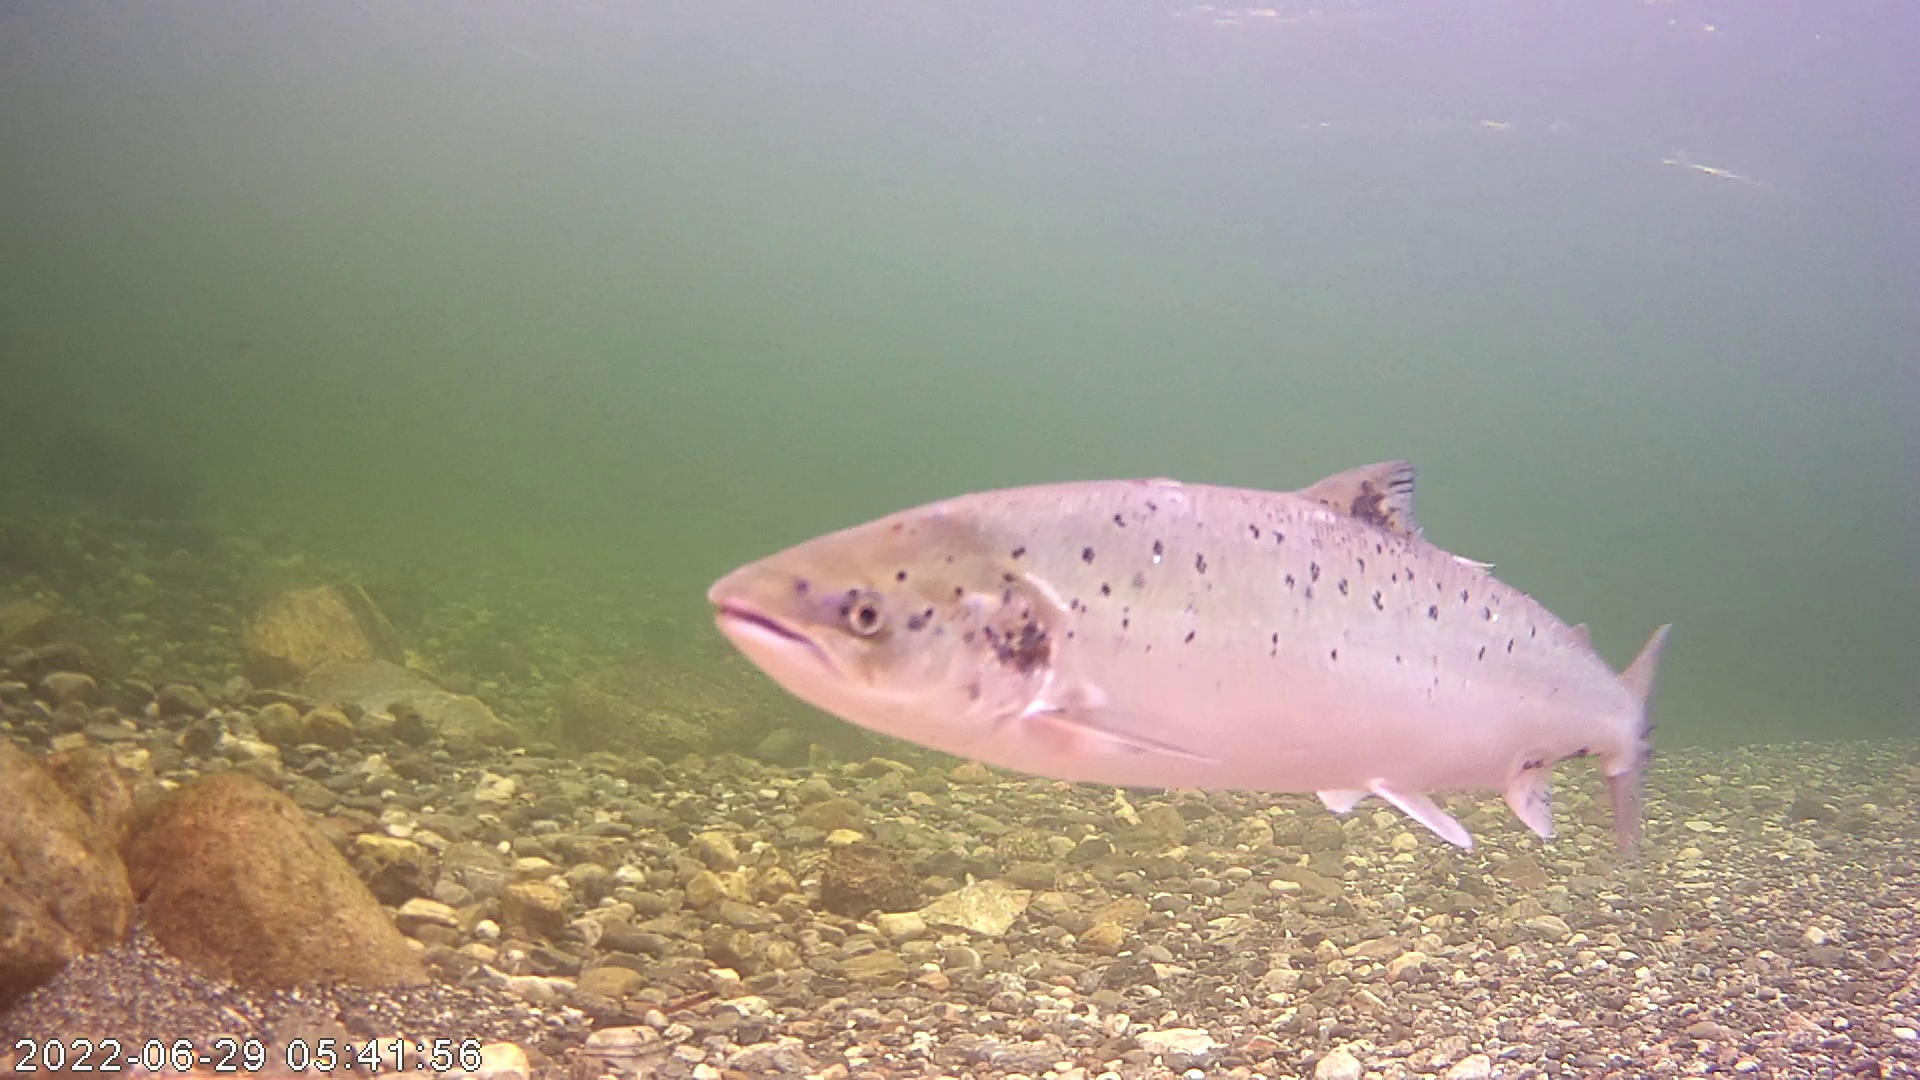salmon: (703, 307, 1677, 812)
